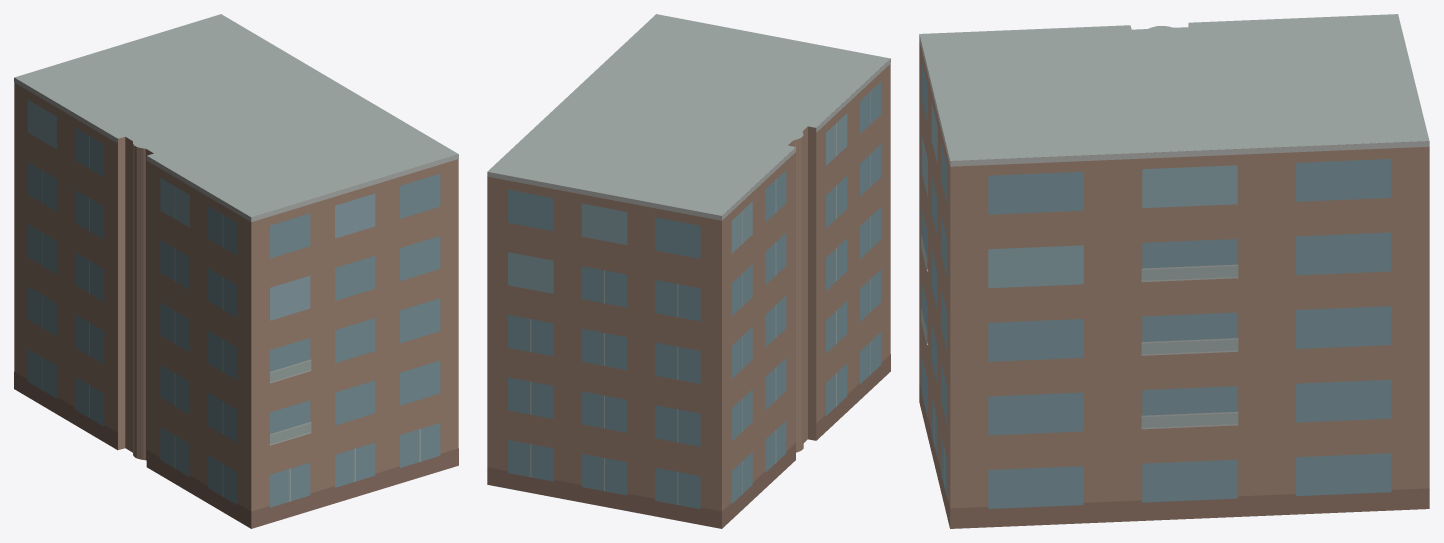
File: survey-upis-32979665.glb
The picture shows the model from 3 angles, left to right: view 1: azimuth 30°, elevation 25°; view 2: azimuth 150°, elevation 25°; view 3: azimuth 270°, elevation 25°; orthographic projection. The views are drawn at different scales.
Parts seen in each view (by area): view 1: survey-upis-32979665.tmp; view 2: survey-upis-32979665.tmp; view 3: survey-upis-32979665.tmp.
Boxes of the visible parts, bbox=[...] form: survey-upis-32979665.tmp: bbox=[14, 14, 458, 528]; survey-upis-32979665.tmp: bbox=[487, 14, 890, 528]; survey-upis-32979665.tmp: bbox=[919, 14, 1429, 528].
Bounding box in the file's own units: 13.46 × 15.7 × 19.74.
